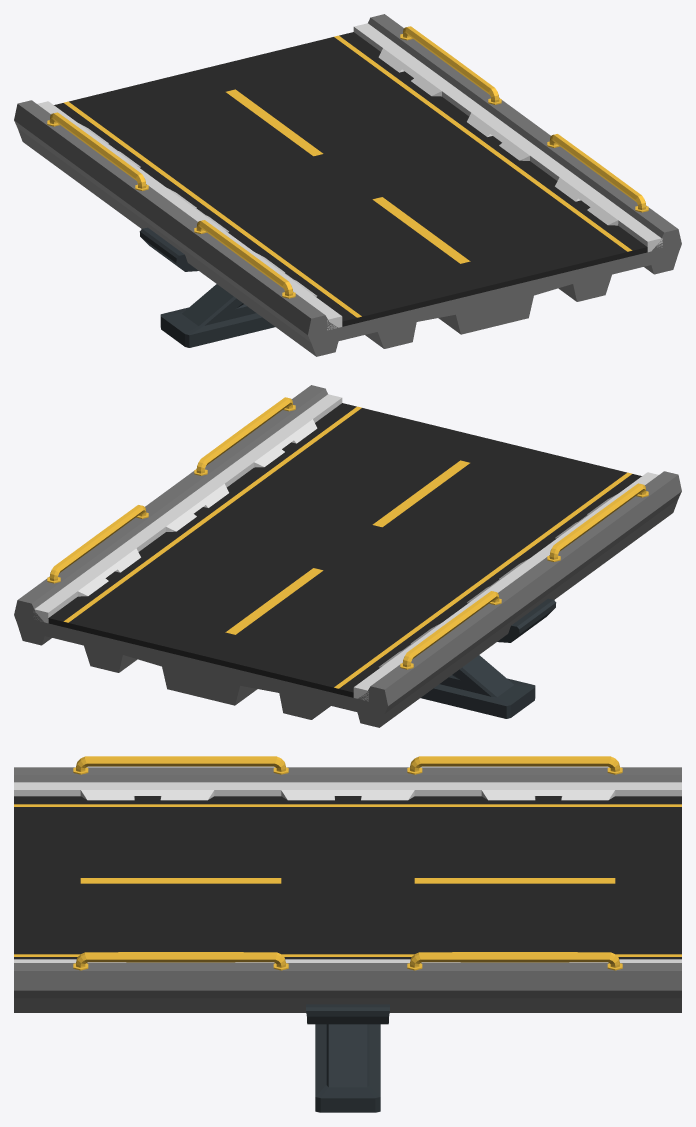
File: road_I.glb
The picture shows the model from 3 angles, top to bottom: view 1: azimuth 30°, elevation 25°; view 2: azimuth 150°, elevation 25°; view 3: azimuth 270°, elevation 25°; orthographic projection. The views are drawn at different scales.
Visible parts, largest first — view 1: YIZHI, 立方体.011, 立方体.012, 柱体.002, 立方体.013, 平面.006, 平面.005; view 2: YIZHI, 立方体.011, 立方体.012, 柱体.002, 立方体.013, 平面.006, 平面.005; view 3: YIZHI, 立方体.011, 立方体.012, 柱体.002, 立方体.013, 平面.006, 平面.005.
Boxes of the visible parts, x1,y1,x2,y2 form: YIZHI: (54, 32, 647, 326); 立方体.011: (14, 14, 681, 356); 立方体.012: (37, 23, 662, 330); 柱体.002: (47, 26, 648, 298); 立方体.013: (139, 227, 274, 347); 平面.006: (63, 35, 632, 317); 平面.005: (226, 89, 470, 263); YIZHI: (48, 403, 641, 697); 立方体.011: (14, 385, 681, 727); 立方体.012: (33, 394, 658, 701); 柱体.002: (47, 397, 648, 669); 立方体.013: (421, 598, 556, 718); 平面.006: (63, 406, 632, 688); 平面.005: (225, 460, 469, 634); YIZHI: (14, 796, 681, 959); 立方体.011: (14, 767, 681, 1012); 立方体.012: (14, 782, 681, 962); 柱体.002: (73, 756, 622, 970); 立方体.013: (306, 1004, 389, 1112); 平面.006: (14, 804, 681, 956); 平面.005: (80, 878, 615, 883).
Bounding box in the file's own units: 7.46 × 2.65 × 10.
